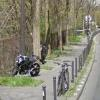Motorcycle: (10, 51, 41, 80)
